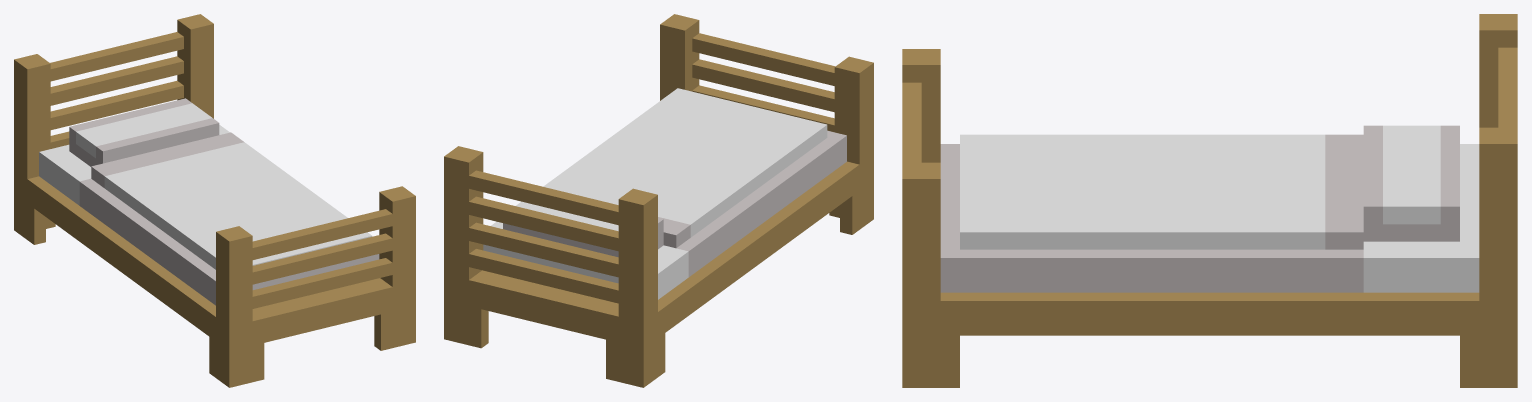
The model's file is White Bed.glb.
3 renders of one model, left to right at view 1: azimuth 30°, elevation 25°; view 2: azimuth 150°, elevation 25°; view 3: azimuth 270°, elevation 25°, orthographic. The views are drawn at different scales.
Parts seen in each view (by area): view 1: Untitled.002, Untitled; view 2: Untitled, Untitled.002; view 3: Untitled, Untitled.002.
Part boxes in pixels (box(x1,y1,x2,y2)): Untitled.002: box(121, 172, 415, 387); Untitled: box(14, 14, 284, 271); Untitled: box(444, 146, 758, 387); Untitled.002: box(584, 14, 873, 263); Untitled: box(1210, 14, 1517, 387); Untitled.002: box(902, 49, 1209, 387).
Size of the model in its own units: 3.2 by 2.8 by 6.4.
Materials: 2 (2 with a texture image).
